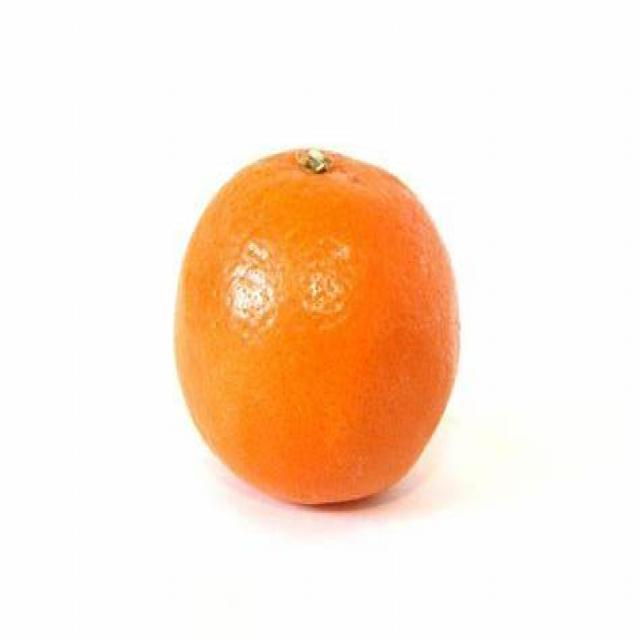Orange: (172, 147, 464, 508)
